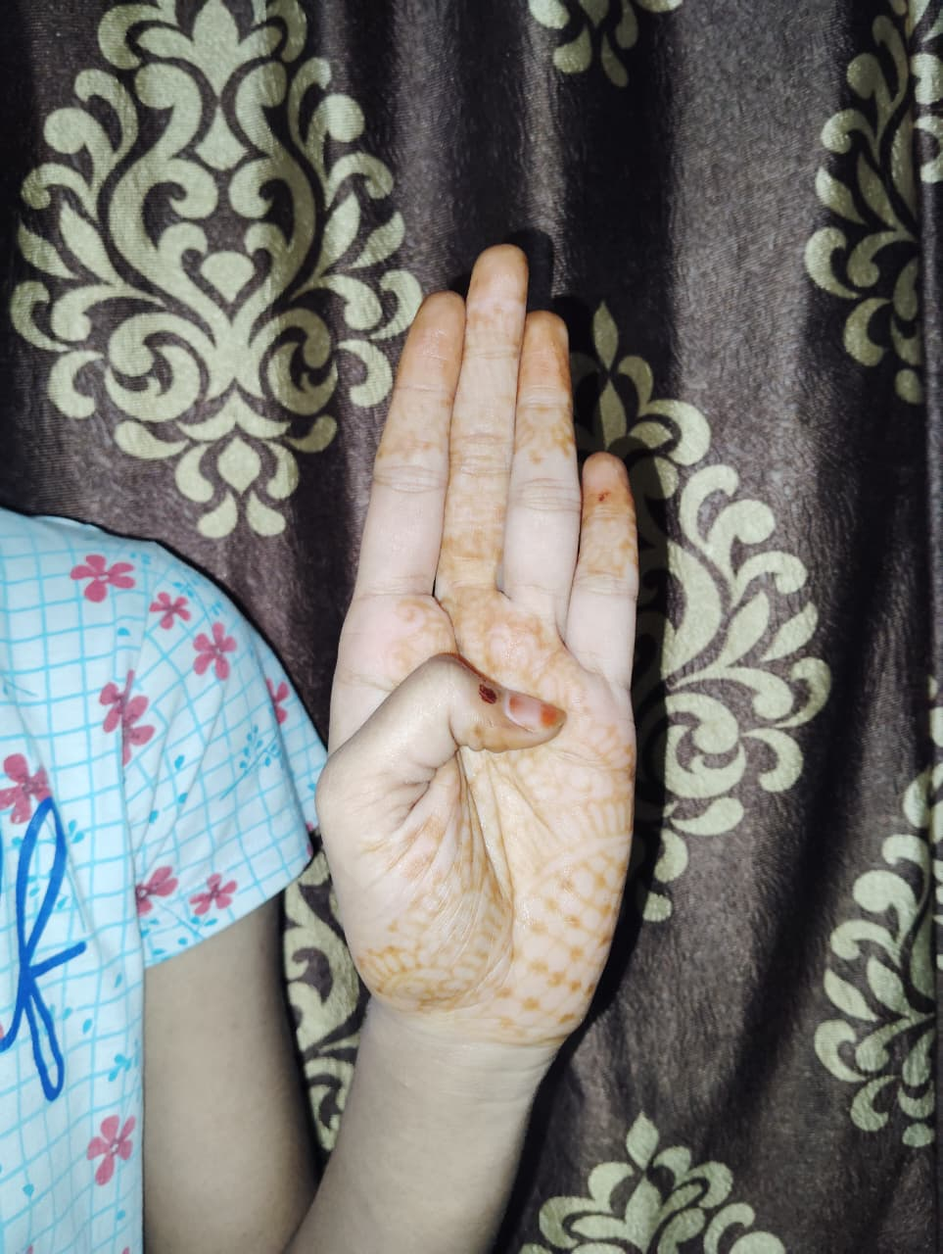B: (319, 244, 637, 1026)
